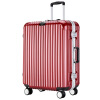luggage: (21, 0, 84, 98)
